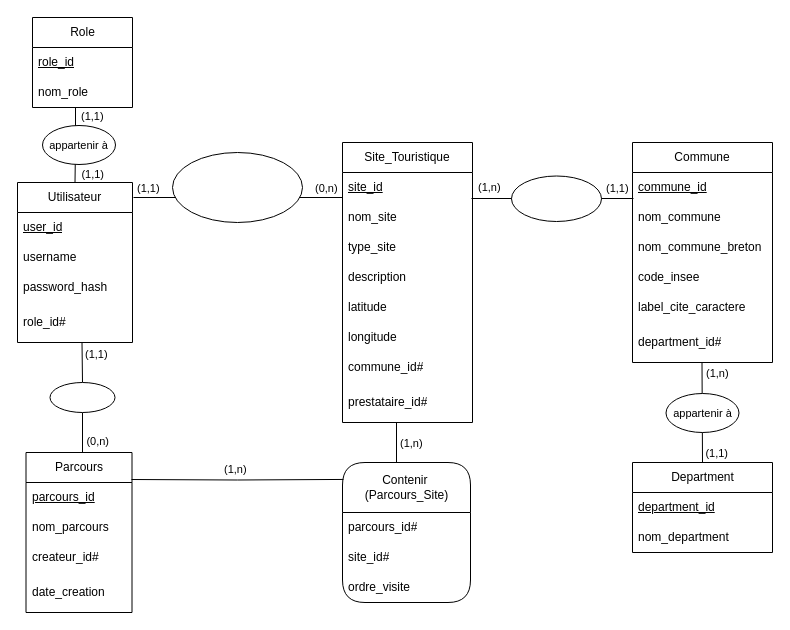
Some shapes in this 790 by 630 pixel diagram are drawn without their labels. The shapes that lost their labels are listed below. From the top down, each one's centre as x and y in pixels, then its label:
the point at 237,187: gérer / mettre à jour (prestataire uniquement)
the point at 556,198: être situer dans
the point at 82,397: créer
